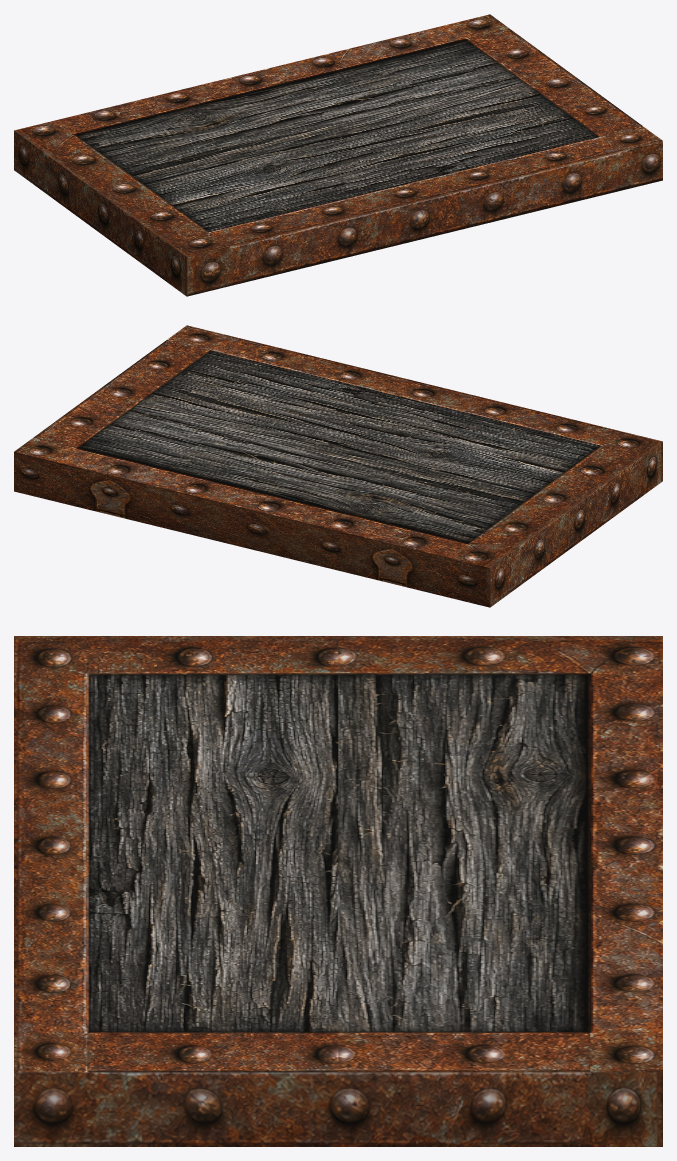
The model's file is mm9_deco_chest1_lid.glb.
The picture shows the model from 3 angles, top to bottom: view 1: azimuth 30°, elevation 25°; view 2: azimuth 150°, elevation 25°; view 3: azimuth 270°, elevation 25°; orthographic projection. The views are drawn at different scales.
Parts seen in each view (by area): view 1: Chest1; view 2: Chest1; view 3: Chest1.
Part boxes in pixels (x1,y1,x2,y2): Chest1: (14, 14, 662, 296); Chest1: (14, 325, 662, 607); Chest1: (14, 636, 662, 1146).
Size of the model in its own units: 1 by 0.0798 by 0.6296.
1 material, 1 textured.
